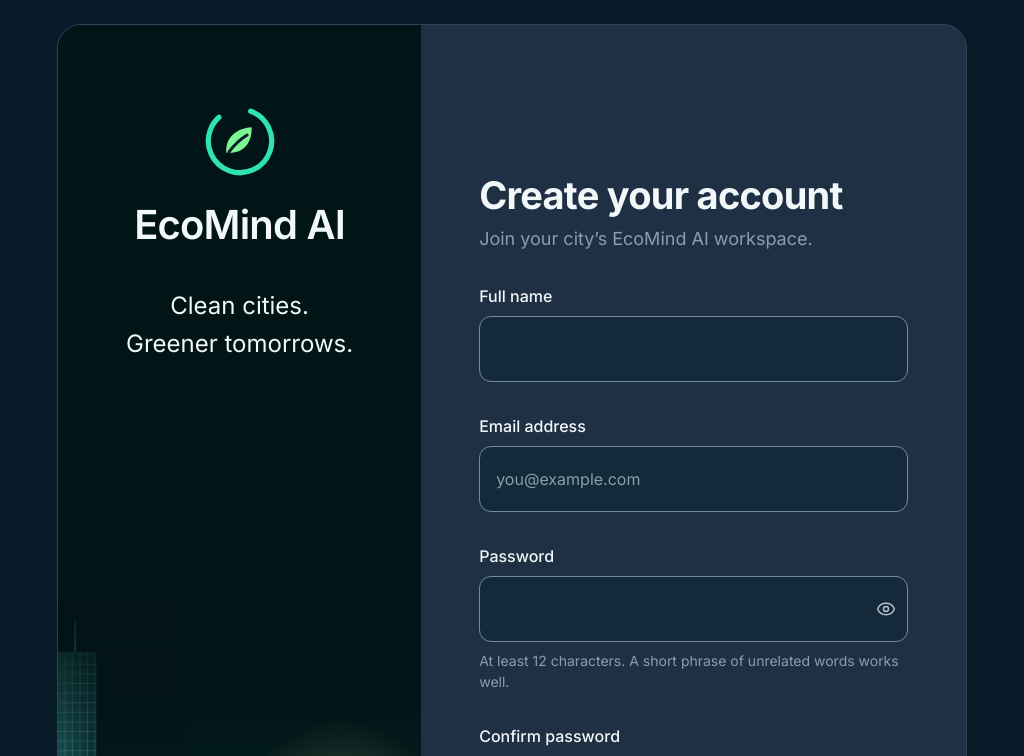
Scenario: sign-up › shows a duplicate email on the email field
In the field labelled "Full name": (694, 349) [479,316,908,382], type "Asha Verma"
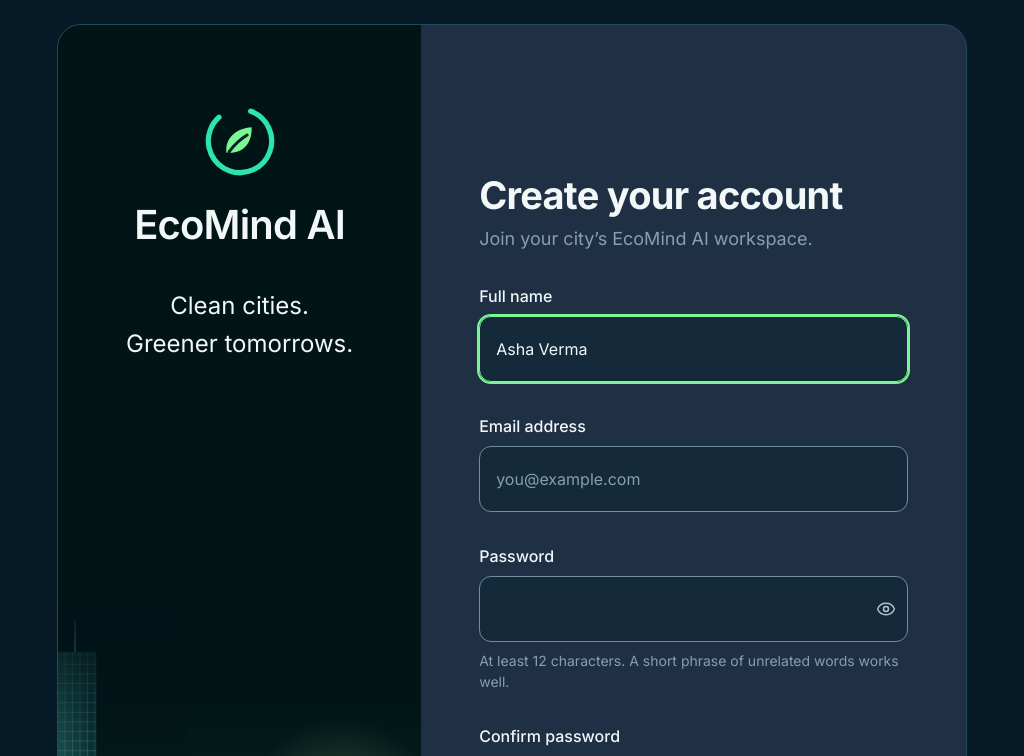
In the field labelled "Email address": (694, 479) [479,446,908,512], type "asha@example.org"
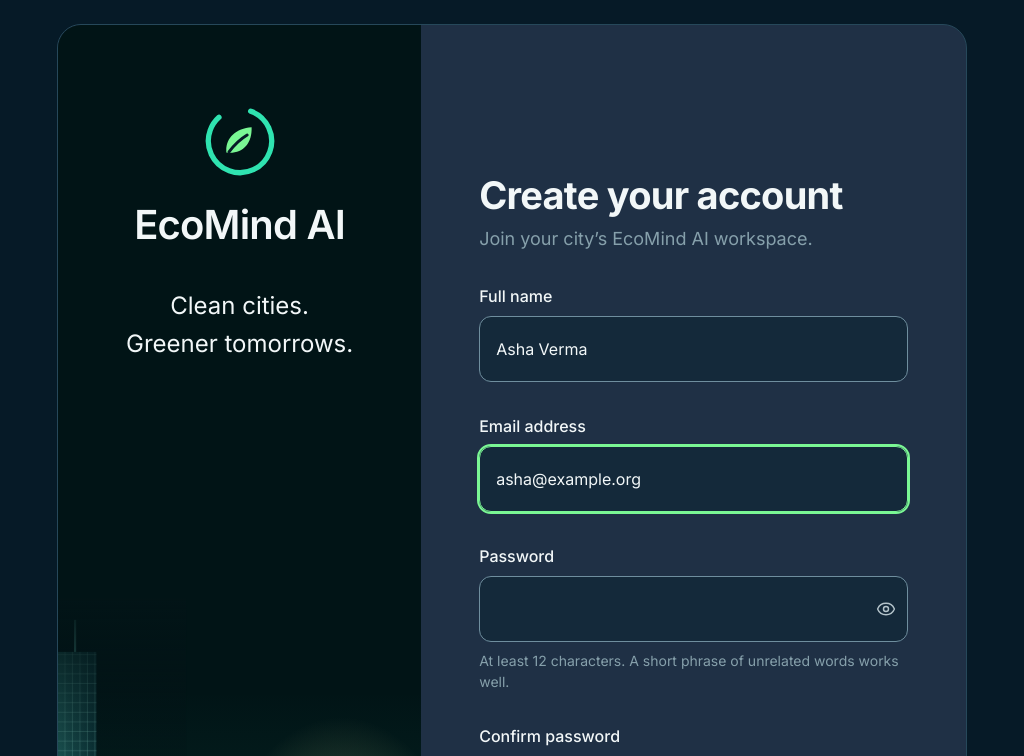
In the password field labelled "Password": (694, 609) [479,576,908,642], type "a long passphrase 1"
(page scrolled)
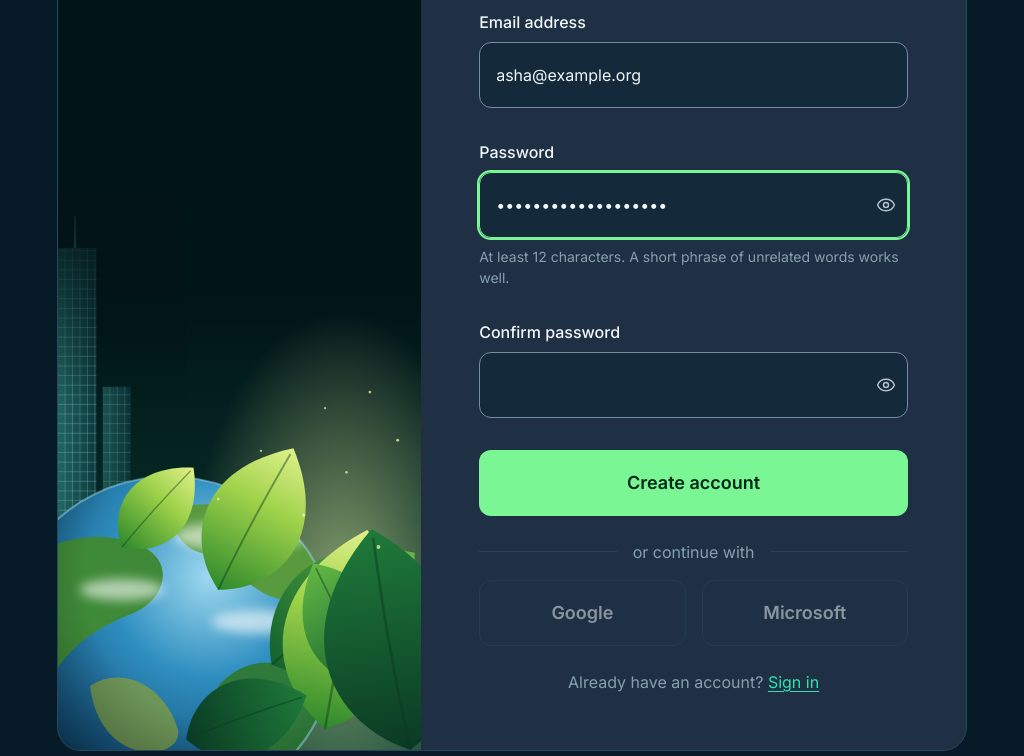
In the password field labelled "Confirm password": (694, 385) [479,352,908,418], type "a long passphrase 1"
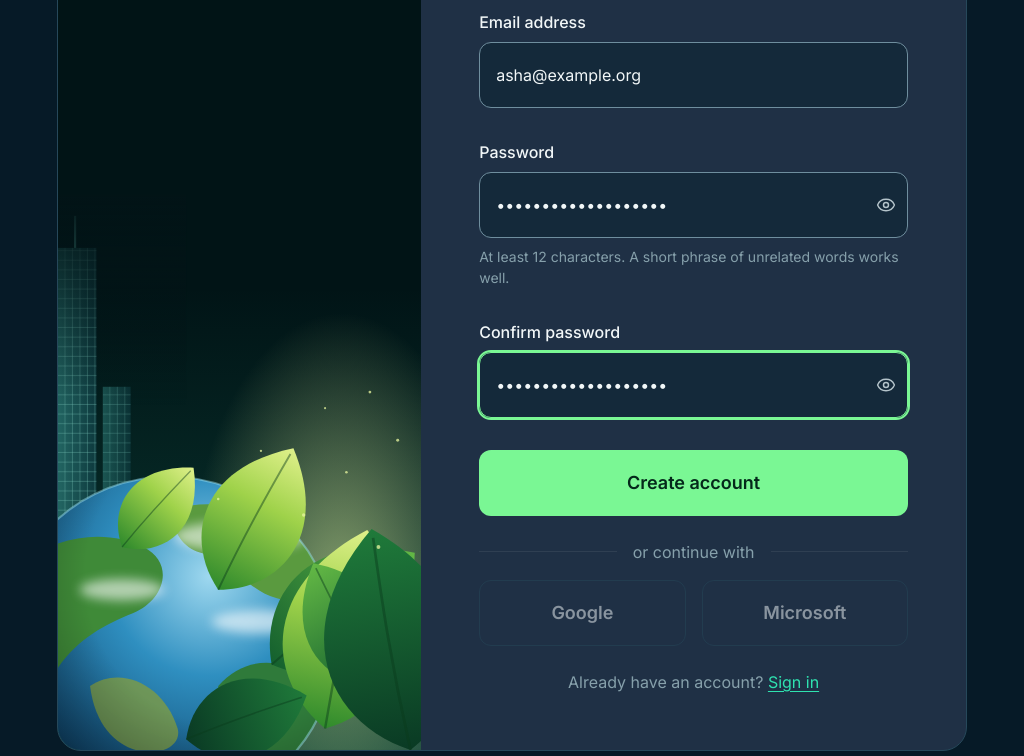
Click the button "Create account": (694, 483) [479,450,908,516]
(page scrolled)
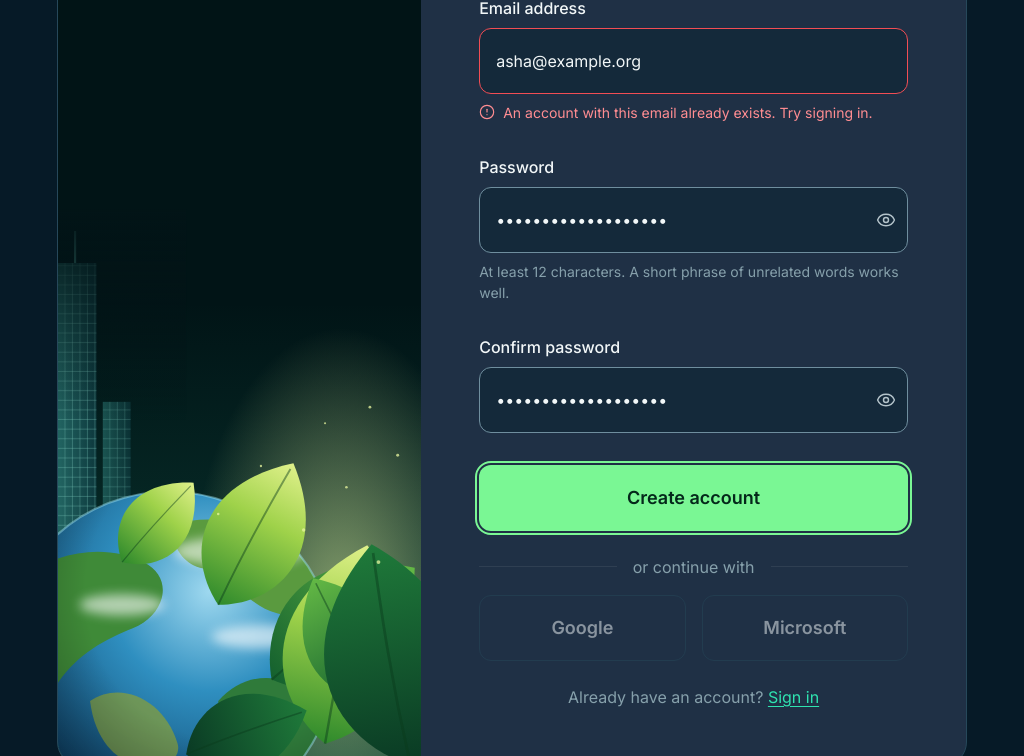
Result: the text "An account with this email already exists. Try signing in." is shown at [479,102,908,123]
